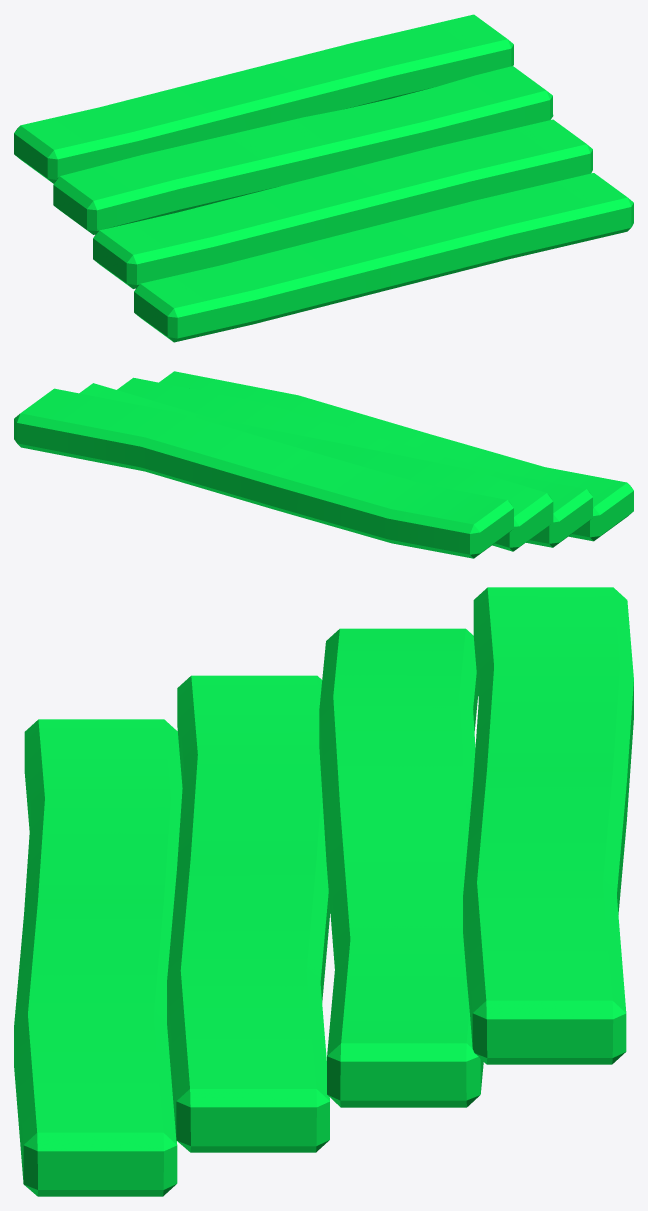
File: NewStairs.fbx
The picture shows the model from 3 angles, top to bottom: view 1: azimuth 30°, elevation 25°; view 2: azimuth 150°, elevation 25°; view 3: azimuth 270°, elevation 25°; orthographic projection. The views are drawn at different scales.
Parts seen in each view (by area): view 1: NewStairs; view 2: NewStairs; view 3: NewStairs.
Part boxes in pixels (left/top/right/bottom): NewStairs: left=14, top=14, right=633, bottom=342; NewStairs: left=14, top=371, right=633, bottom=558; NewStairs: left=14, top=587, right=633, bottom=1196.
Size of what is drawn, in the model's own units: 451 by 104 by 278.
